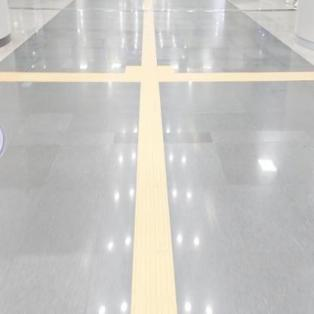Podoctatil: (130, 82, 178, 314), (112, 48, 185, 98), (175, 72, 313, 82), (0, 72, 125, 82), (141, 0, 159, 66)
